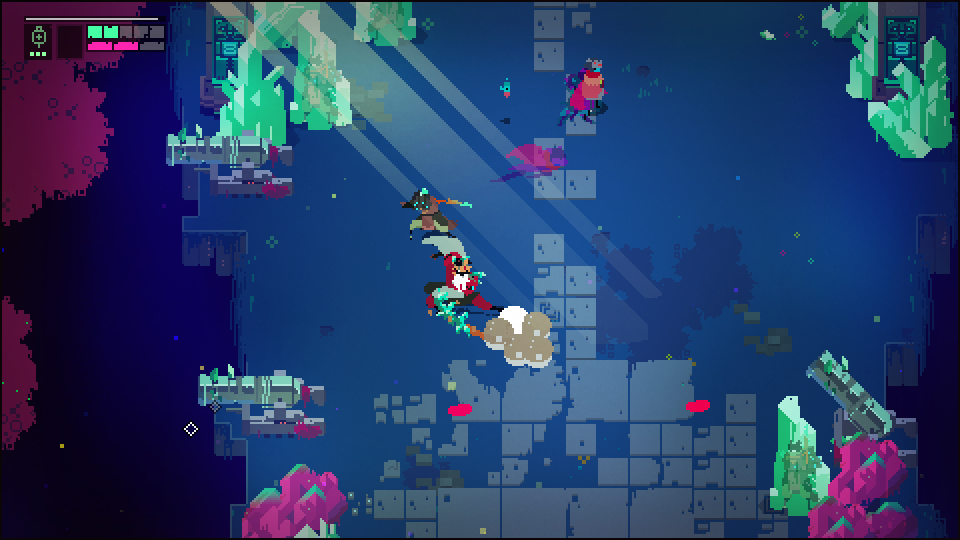hanged_man: (424, 235, 497, 343)
player: (581, 57, 604, 109)
